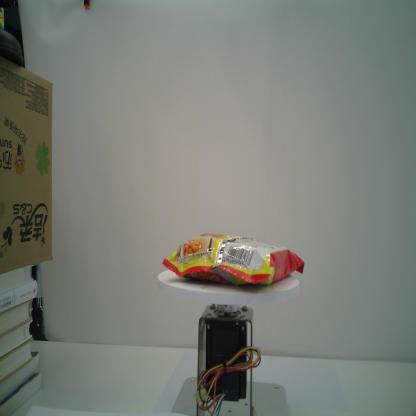Instant Noodles: (162, 232, 305, 287)
